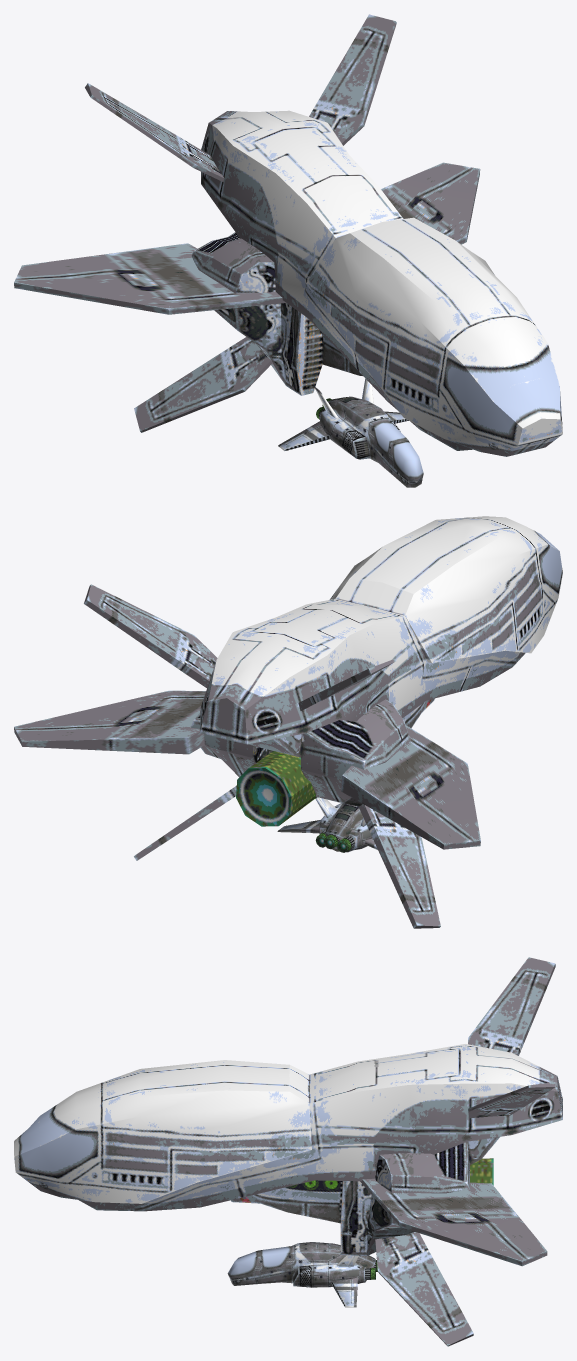
Rendered from ship.glb.
The picture shows the model from 3 angles, top to bottom: view 1: azimuth 30°, elevation 25°; view 2: azimuth 150°, elevation 25°; view 3: azimuth 270°, elevation 25°; orthographic projection. The views are drawn at different scales.
Visible parts, largest first — view 1: Spaceship1, Spaceship7; view 2: Spaceship1, Spaceship7; view 3: Spaceship1, Spaceship7.
Part boxes in pixels (bbox=[...]): Spaceship1: bbox=[14, 14, 562, 456]; Spaceship7: bbox=[278, 378, 423, 487]; Spaceship1: bbox=[14, 516, 562, 928]; Spaceship7: bbox=[277, 797, 377, 852]; Spaceship1: bbox=[14, 957, 562, 1346]; Spaceship7: bbox=[227, 1242, 377, 1307].
Size of the model in its own units: 115 by 71.35 by 135.
Materials: 2 (2 with a texture image).
